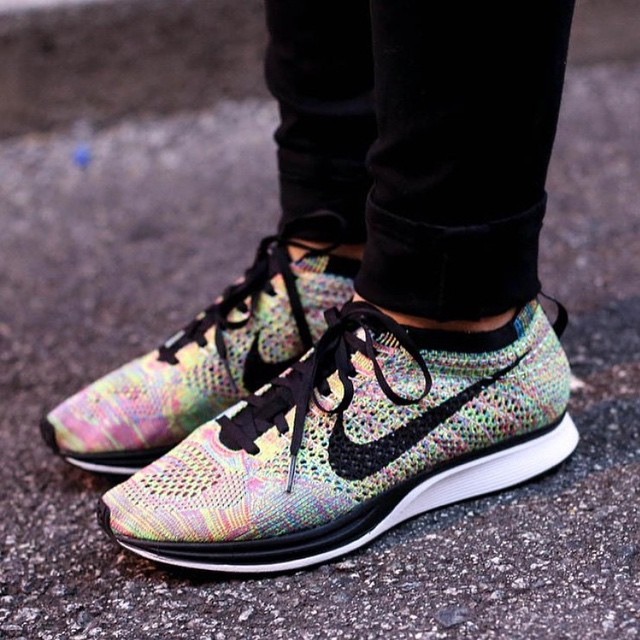sneaker: (82, 278, 607, 593), (20, 213, 375, 499)
